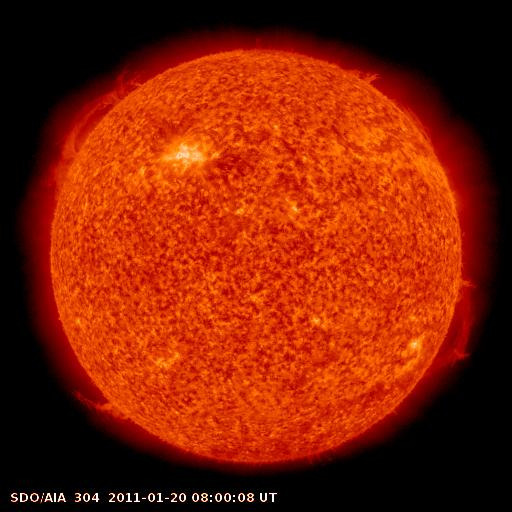prominence: (47, 65, 159, 190), (410, 271, 495, 383), (62, 382, 144, 430), (394, 94, 442, 154), (331, 53, 383, 88)
